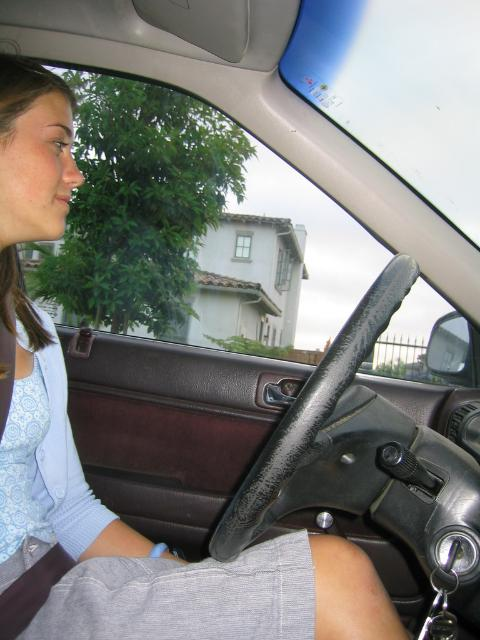Seatbelt: (0, 282, 76, 640)
